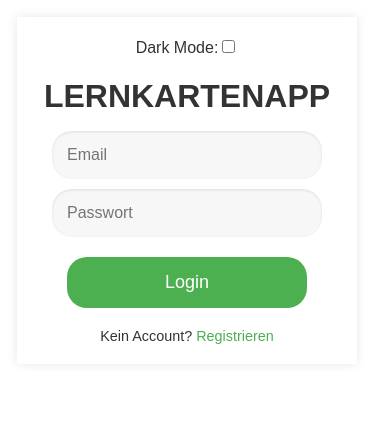
Test: LoginPage › should show an error message for failed login attempt
Type "user@example.com" into the field with placeholder "Email" at {"x": 187, "y": 155}, box [52,131,322,179]
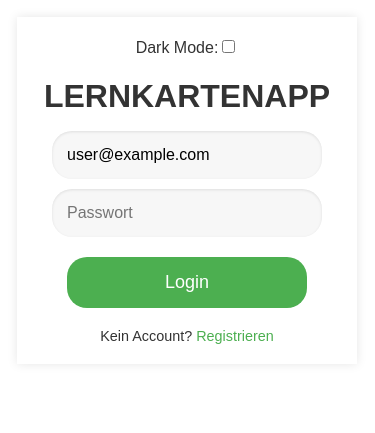
Type "password" into the password field with placeholder "Passwort" at {"x": 187, "y": 213}, box [52,189,322,237]
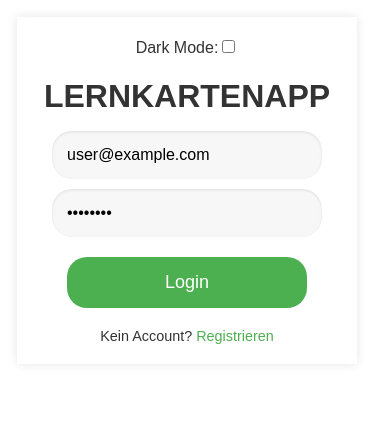
Click the button "Login" at {"x": 187, "y": 283}, box [67,257,307,308]
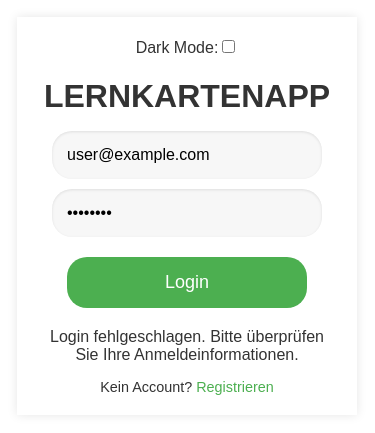
Check: the text "Login fehlgeschlagen. Bitte überprüfen Sie Ihre Anmeldeinformationen." is shown, box [37,328,337,364]
